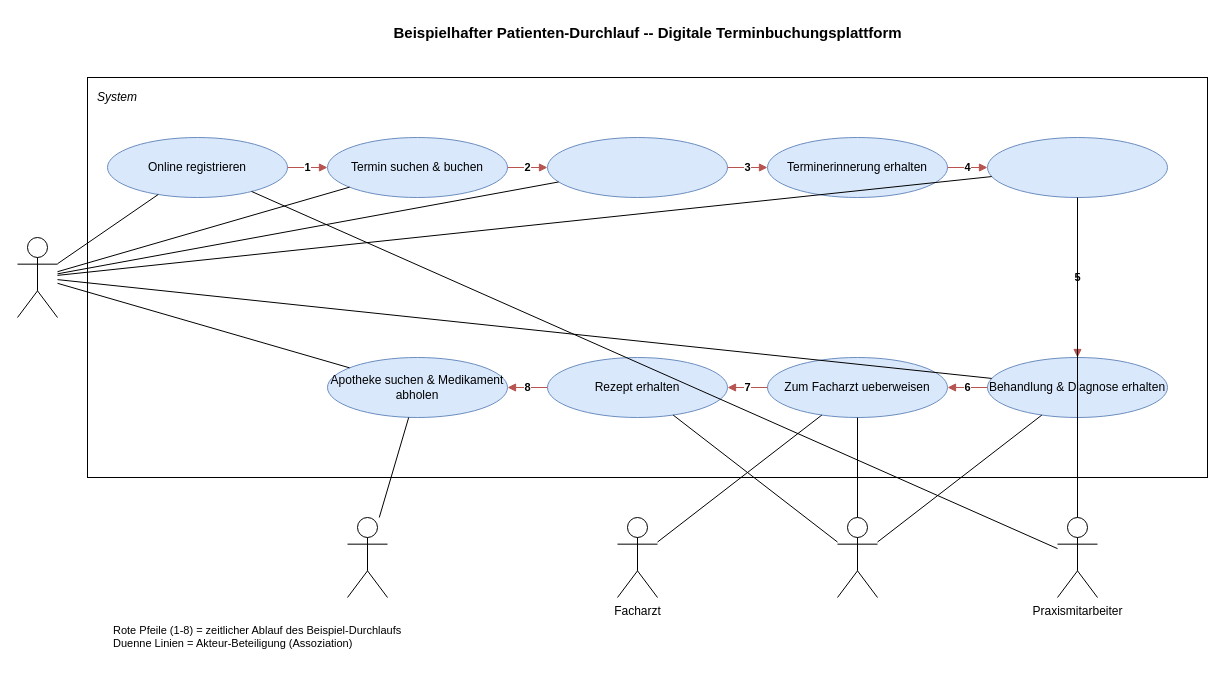
This 1225x674 diagram has some shape labels left out. The box of each missing label's shape, as (x1, y1, x2, y2) in pixels:
Apotheke: (346, 516, 388, 598)
Arzt: (836, 516, 878, 598)
Check-In beim Arzt: (986, 136, 1168, 198)
Patient: (16, 236, 58, 318)
Termin verschieben: (546, 136, 728, 198)
